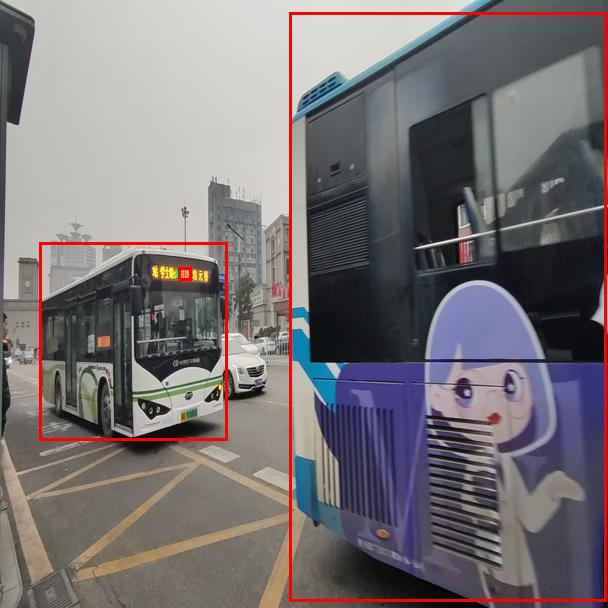bus: (289, 12, 606, 601), (39, 242, 227, 440)
screen: (178, 267, 191, 280)
